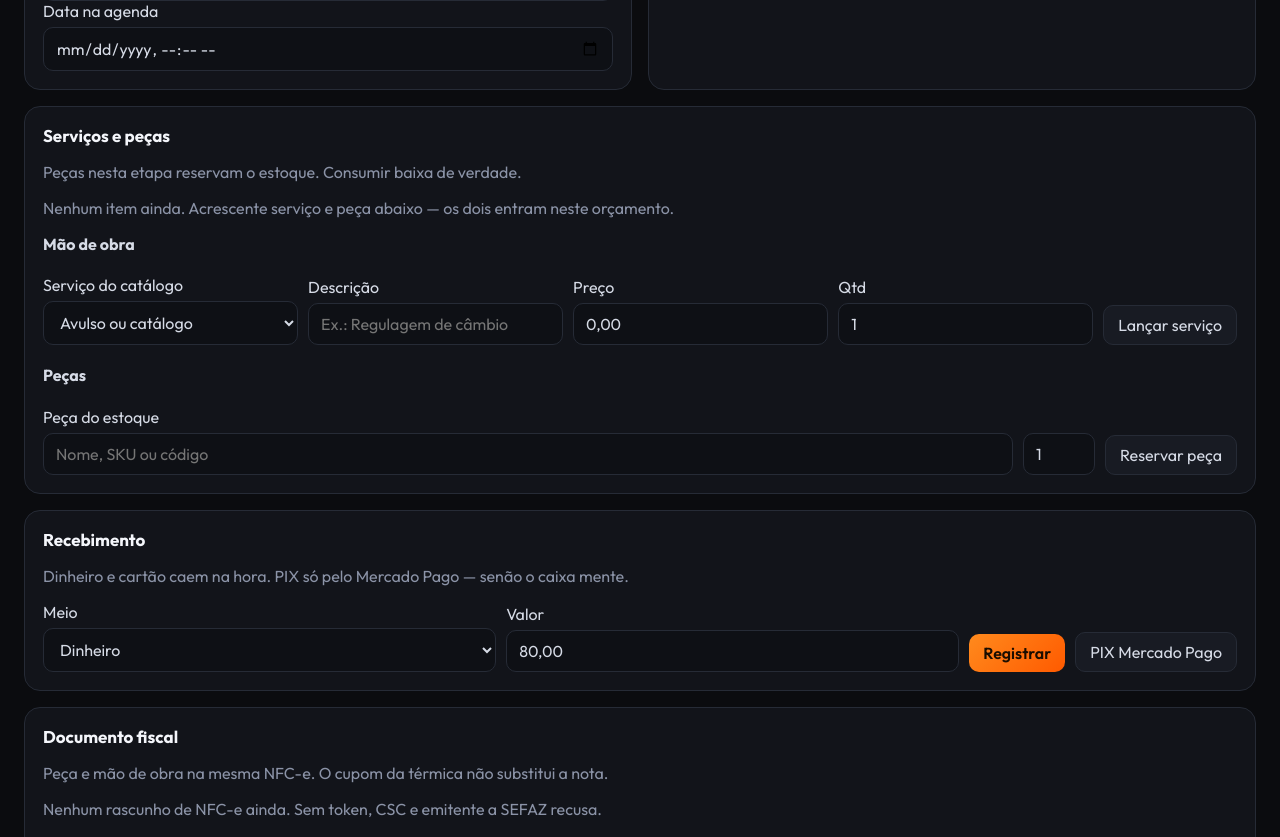
Test: OS pronta › atualiza o pago da OS quando o PIX entra
(page scrolled)
Click the button "PIX Mercado Pago": (1156, 652) [1075,632,1237,672]
(page scrolled)
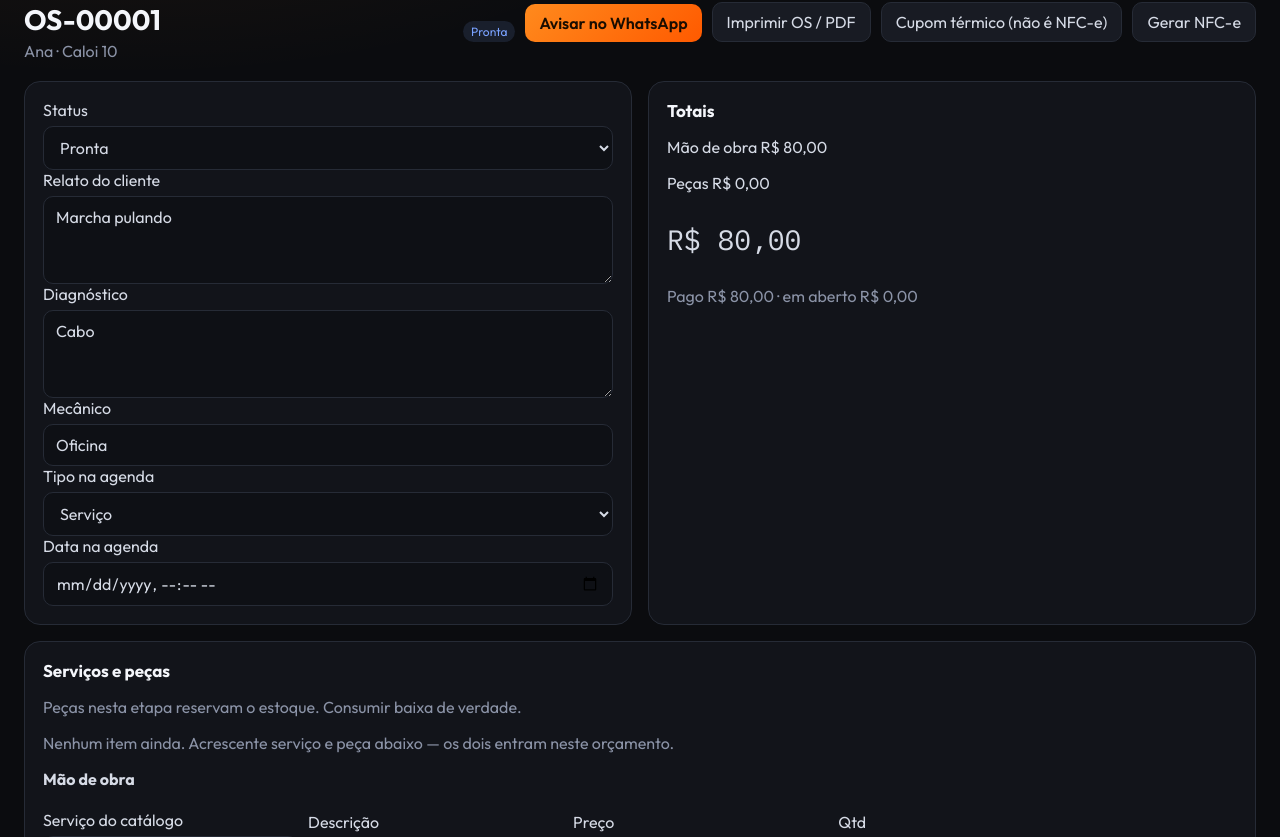
Expected: the text "Pago R$ 80,00 · em aberto R$ 0,00" is shown, [667,286,918,306]
